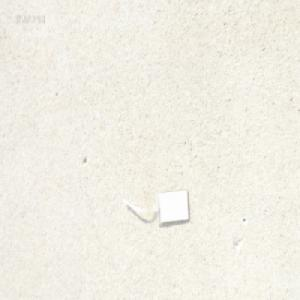LuggageTag: (117, 184, 188, 226)
